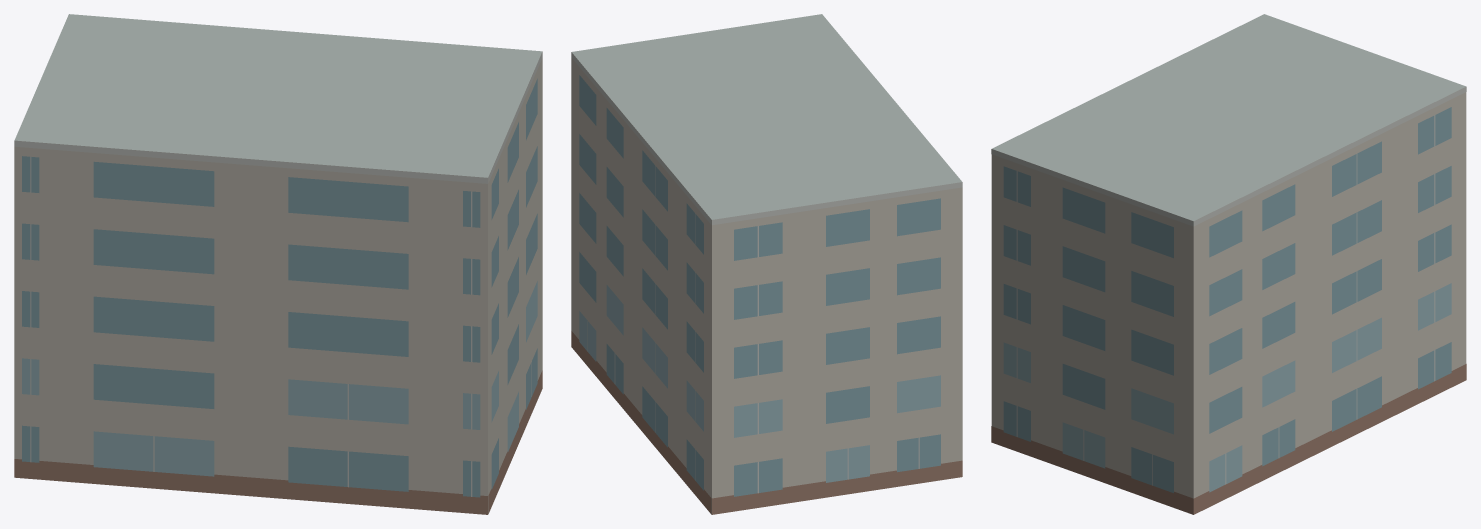
The model's file is survey-upis-33028314.glb.
The picture shows the model from 3 angles, left to right: view 1: azimuth 30°, elevation 25°; view 2: azimuth 150°, elevation 25°; view 3: azimuth 270°, elevation 25°; orthographic projection. The views are drawn at different scales.
Parts seen in each view (by area): view 1: survey-upis-33028314.tmp; view 2: survey-upis-33028314.tmp; view 3: survey-upis-33028314.tmp.
Part boxes in pixels (box(x1,y1,x2,y2)): survey-upis-33028314.tmp: box(14, 14, 542, 514); survey-upis-33028314.tmp: box(571, 14, 962, 514); survey-upis-33028314.tmp: box(991, 14, 1466, 514).
Bounding box in the file's own units: 20.29 × 13.4 × 19.65.
